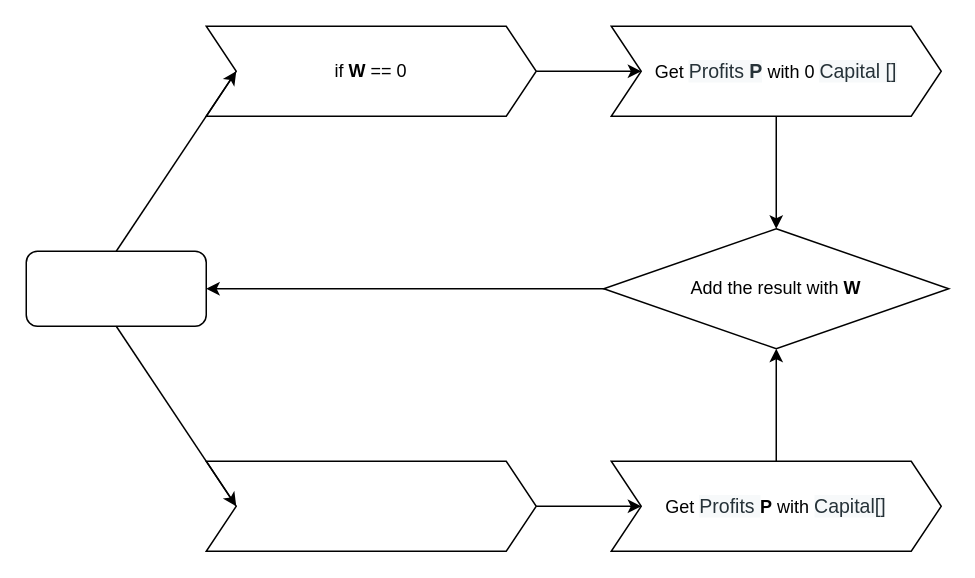
The diagram is 975 pixels wide and 578 high, and some of its shapes have lost their labels. The box of each missing label's shape, as (x1, y1, x2, y2) in pixels:
If W > 0: (205, 460, 536, 551)
Initial Working W: (25, 250, 206, 326)
